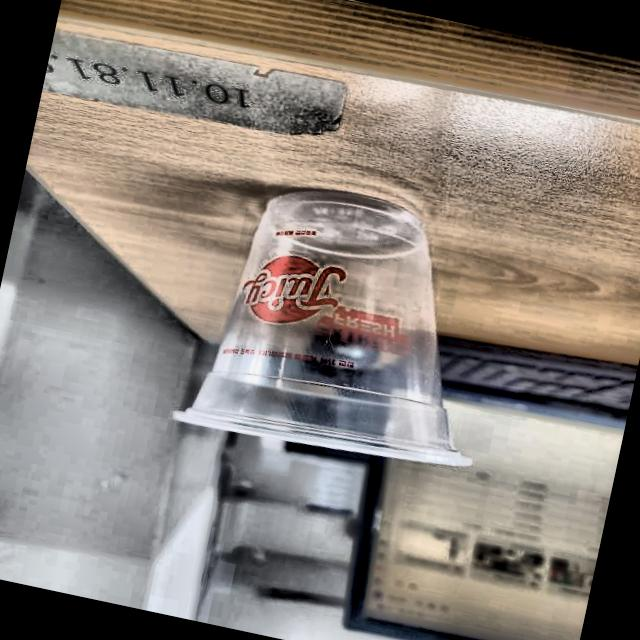plastic cup: (168, 168, 522, 485)
